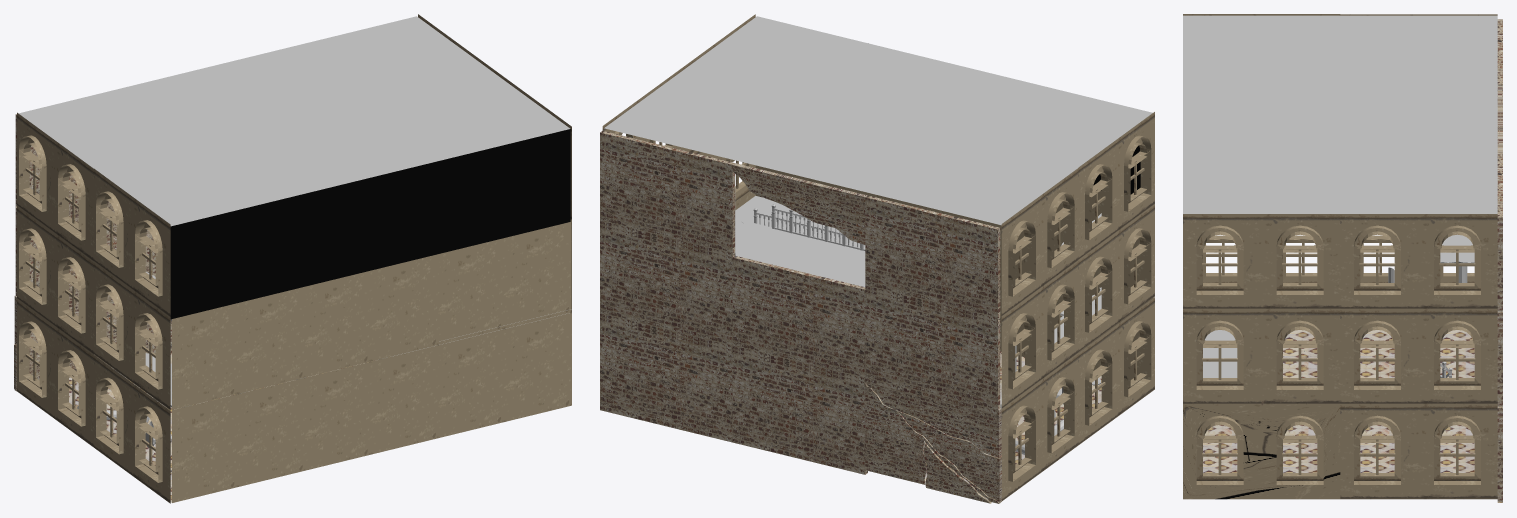
The model's file is hus_export01.obj.
3 renders of one model, left to right at view 1: azimuth 30°, elevation 25°; view 2: azimuth 150°, elevation 25°; view 3: azimuth 270°, elevation 25°, orthographic. The views are drawn at different scales.
Visible parts, largest first — view 1: pPlane5, hus_01 polySurface892, hus_01 polySurface252, hus_01 polySurface255, hus_01 polySurface893, hus_01 polySurface898, hus_01 polySurface897, hus_01 polySurface894, hus_01 polySurface895, hus_01 polySurface896, pPlane10, pPlane11 (+17 smaller); view 2: pPlane5, hus_01 polySurface30, hus_01 polySurface31, hus_01 polySurface14, hus_01 polySurface13, hus_01 polySurface17, hus_01 polySurface15, hus_01 polySurface16, hus_01 polySurface32, hus_01 polySurface33, hus_01 polySurface20, pPlane11 (+24 smaller); view 3: pPlane5, pPlane3, pPlane14, pPlane4, pPlane12, pPlane15, pPlane13, hus_01 polySurface395, hus_01 polySurface11, hus_01 polySurface940, hus_01 polySurface943, hus_01 polySurface946 (+23 smaller).
Boxes of the visible parts, <box> form: pPlane5: <box>18,16,570,226</box>; hus_01 polySurface892: <box>305,345,438,470</box>; hus_01 polySurface252: <box>438,312,571,437</box>; hus_01 polySurface255: <box>170,194,303,319</box>; hus_01 polySurface893: <box>172,378,305,502</box>; hus_01 polySurface898: <box>437,129,570,254</box>; hus_01 polySurface897: <box>304,161,437,286</box>; hus_01 polySurface894: <box>438,219,571,344</box>; hus_01 polySurface895: <box>305,254,438,377</box>; hus_01 polySurface896: <box>172,286,305,409</box>; pPlane10: <box>17,205,93,354</box>; pPlane11: <box>17,112,93,261</box>; pPlane5: <box>604,16,1152,225</box>; hus_01 polySurface30: <box>865,195,1000,321</box>; hus_01 polySurface31: <box>600,130,735,257</box>; hus_01 polySurface14: <box>732,256,865,382</box>; hus_01 polySurface13: <box>865,290,1000,414</box>; hus_01 polySurface17: <box>732,350,867,474</box>; hus_01 polySurface15: <box>600,225,734,349</box>; hus_01 polySurface16: <box>600,317,732,442</box>; hus_01 polySurface32: <box>732,163,867,244</box>; hus_01 polySurface33: <box>735,228,865,286</box>; hus_01 polySurface20: <box>865,384,926,484</box>; pPlane11: <box>1001,168,1078,316</box>; pPlane5: <box>1183,15,1497,213</box>; pPlane3: <box>1183,404,1340,499</box>; pPlane14: <box>1183,309,1340,404</box>; pPlane4: <box>1340,404,1497,499</box>; pPlane12: <box>1340,309,1497,404</box>; pPlane15: <box>1183,214,1340,308</box>; pPlane13: <box>1340,214,1497,308</box>; hus_01 polySurface395: <box>1360,432,1474,472</box>; hus_01 polySurface11: <box>1203,432,1317,472</box>; hus_01 polySurface940: <box>1196,320,1243,389</box>; hus_01 polySurface943: <box>1276,320,1323,389</box>; hus_01 polySurface946: <box>1196,225,1243,294</box>.
Bounding box in the file's own units: 92.32 × 61 × 61.01.
